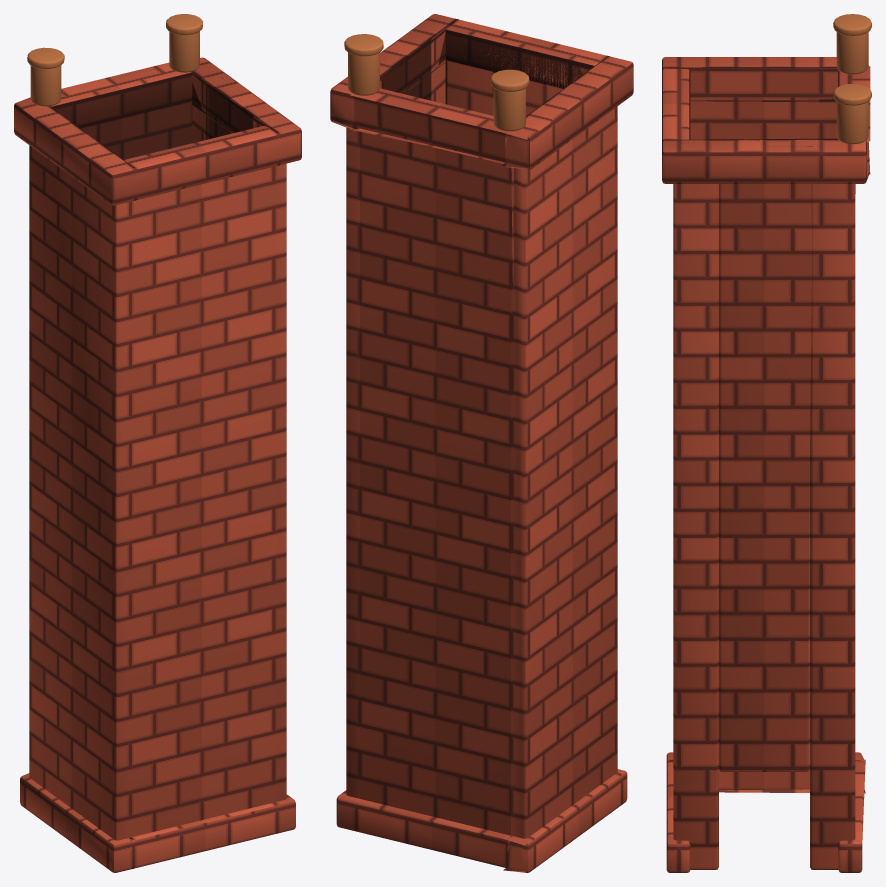
File: brick_chimney_shaft.glb
The picture shows the model from 3 angles, left to right: view 1: azimuth 30°, elevation 25°; view 2: azimuth 150°, elevation 25°; view 3: azimuth 270°, elevation 25°; orthographic projection. The views are drawn at different scales.
Visible parts, largest first — view 1: brick_chimney_shaft; view 2: brick_chimney_shaft; view 3: brick_chimney_shaft.
Boxes of the visible parts, x1,y1,x2,y2 form: brick_chimney_shaft: [14, 14, 301, 872]; brick_chimney_shaft: [330, 14, 633, 872]; brick_chimney_shaft: [662, 14, 871, 872].
Size of the model in its own units: 4 by 14.97 by 3.69.
3 materials, 2 textured.
